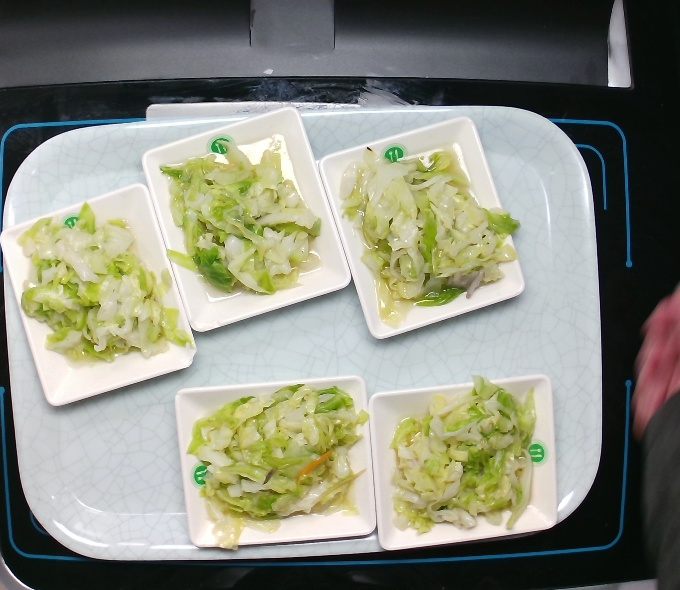wcq-JuanXinCai: (335, 143, 522, 326), (15, 205, 198, 367), (186, 384, 369, 546), (373, 375, 556, 537), (156, 138, 322, 300)
